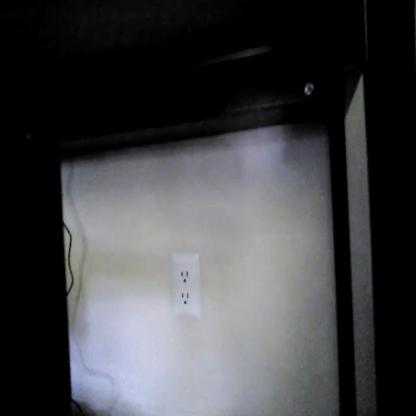OUTLET: (171, 250, 201, 318)
